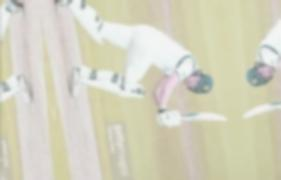batsman: (52, 1, 236, 126)
